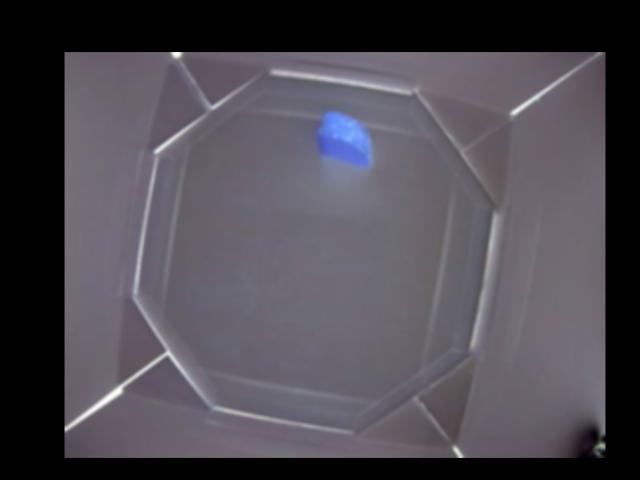Potato: (316, 112, 371, 166)
